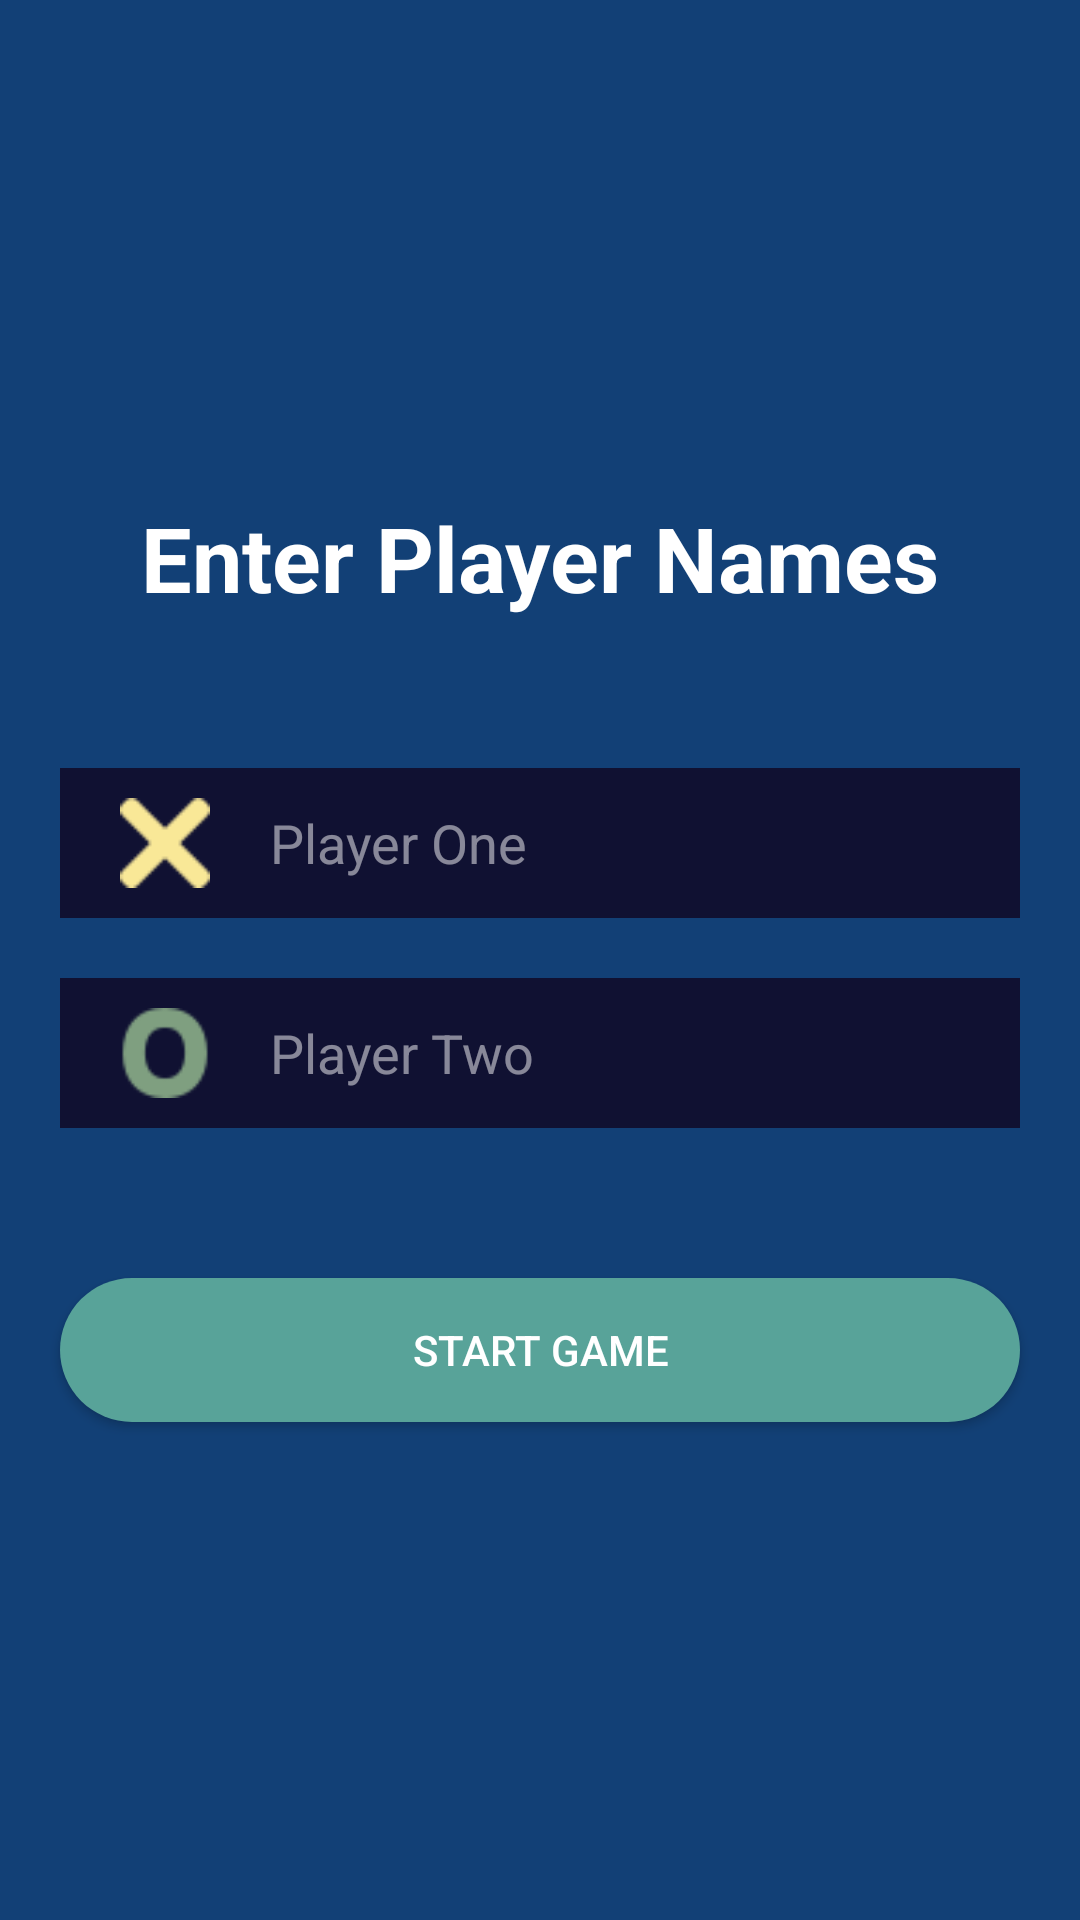

Named icons in this screenshot (1080*1920) and their bounding boxes, (x1, y1, x2, y2):
close: (120, 798, 210, 888)
